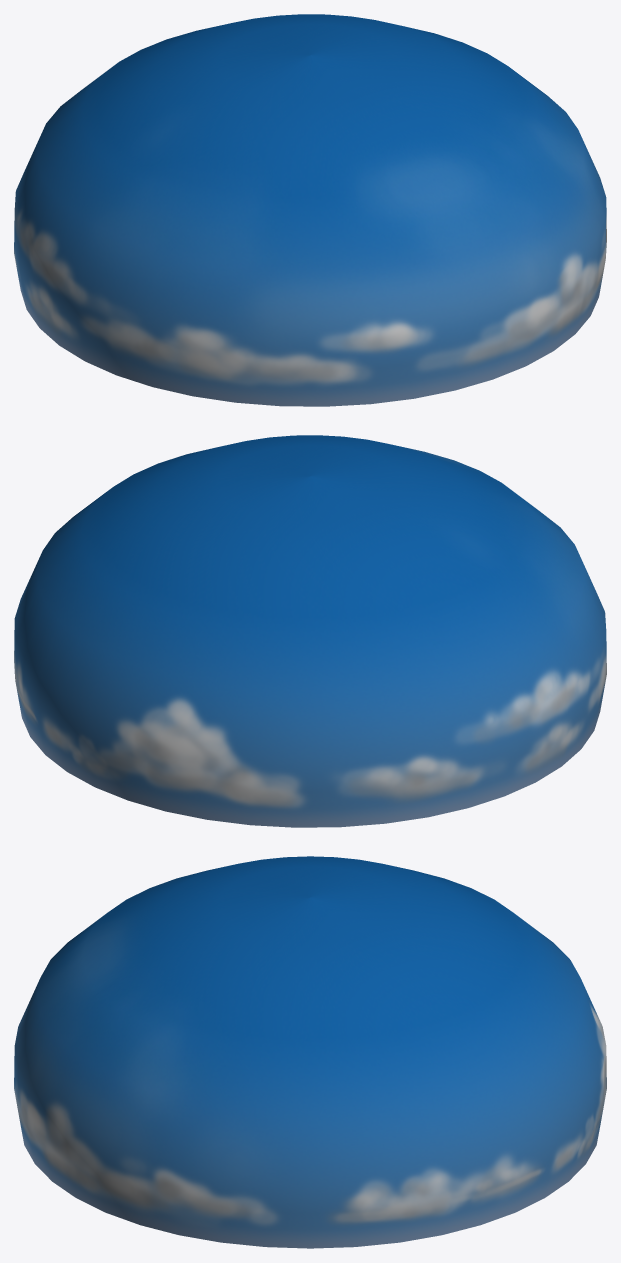
The model's file is Island-transformed.glb.
The picture shows the model from 3 angles, top to bottom: view 1: azimuth 30°, elevation 25°; view 2: azimuth 150°, elevation 25°; view 3: azimuth 270°, elevation 25°; orthographic projection.
Parts seen in each view (by area): view 1: sky; view 2: sky; view 3: sky.
Part boxes in pixels (x1,y1,x2,y2): sky: (14,14,606,406); sky: (14,435,606,827); sky: (14,856,606,1248).
Size of the model in its own units: 187 by 79.58 by 187.
3 materials, 3 textured.
